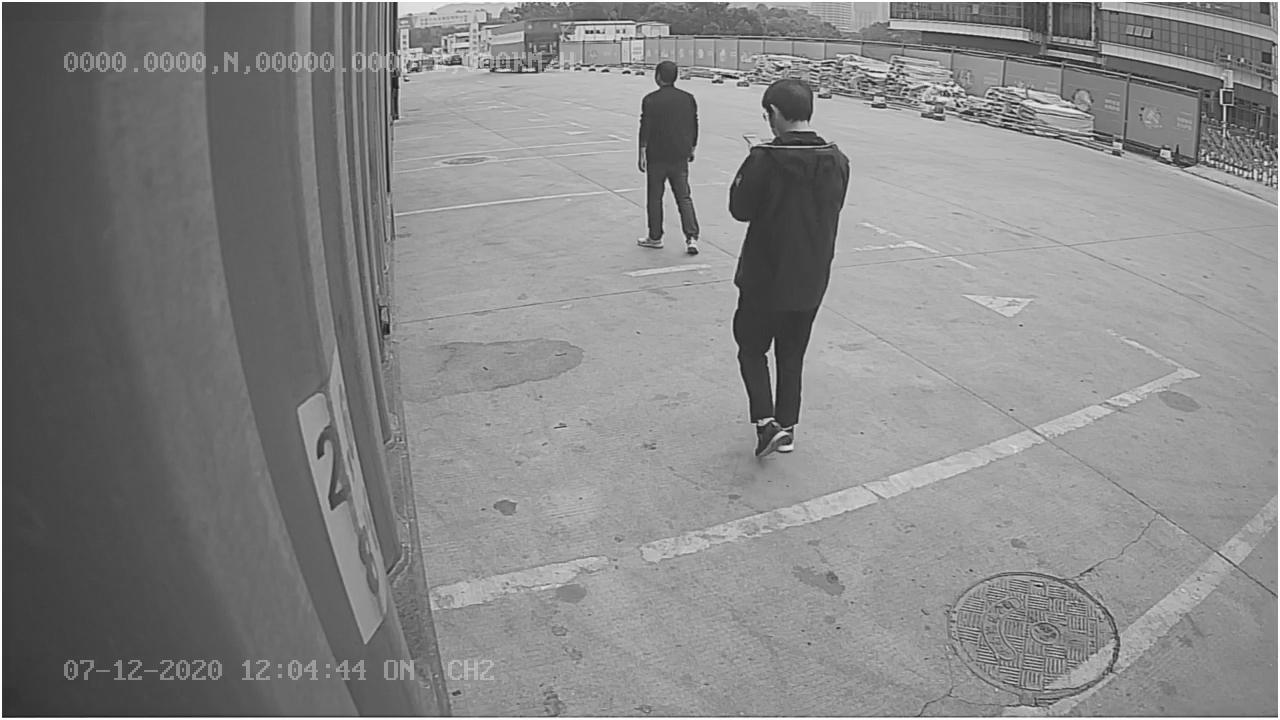person: (727, 76, 854, 461)
